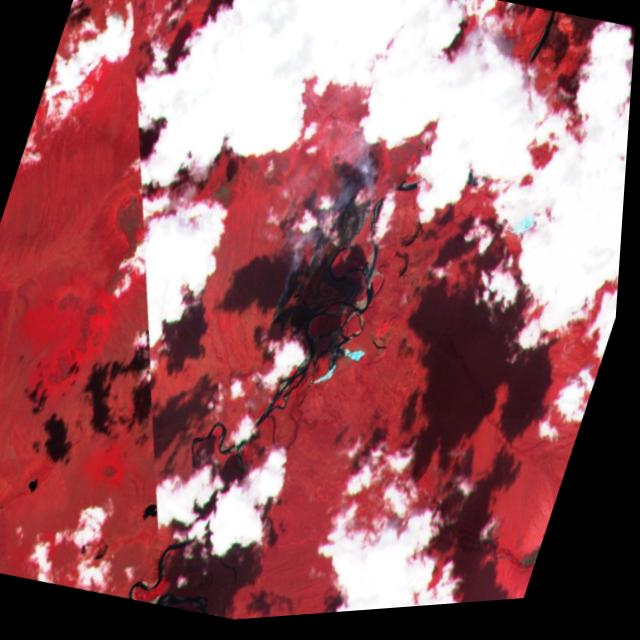fire: (270, 181, 401, 348)
